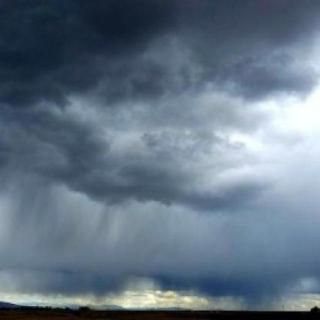Nimbostratus: (0, 2, 320, 294)
